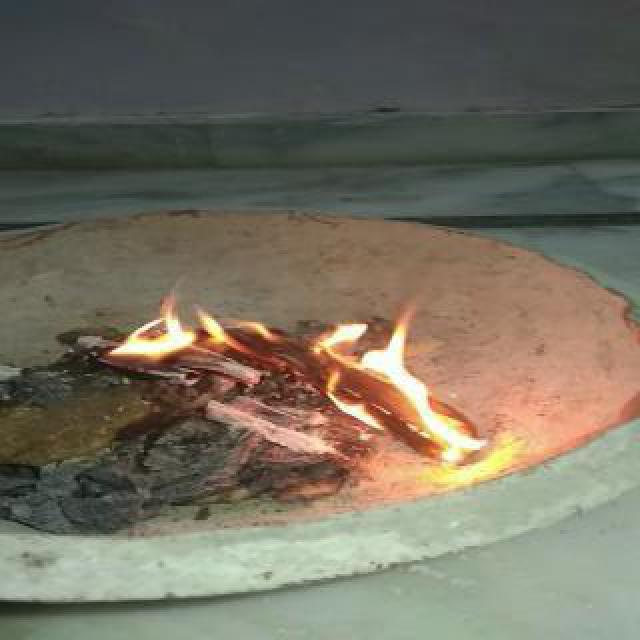zfire: (72, 286, 484, 464)
